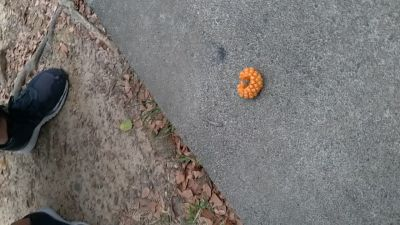eggs: (236, 66, 266, 100)
